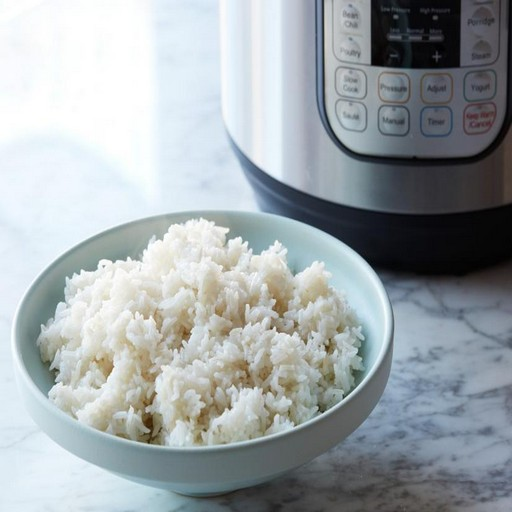rice: (76, 276, 320, 400)
